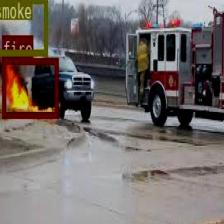fire: (2, 57, 57, 118)
smoke: (0, 0, 47, 55)
